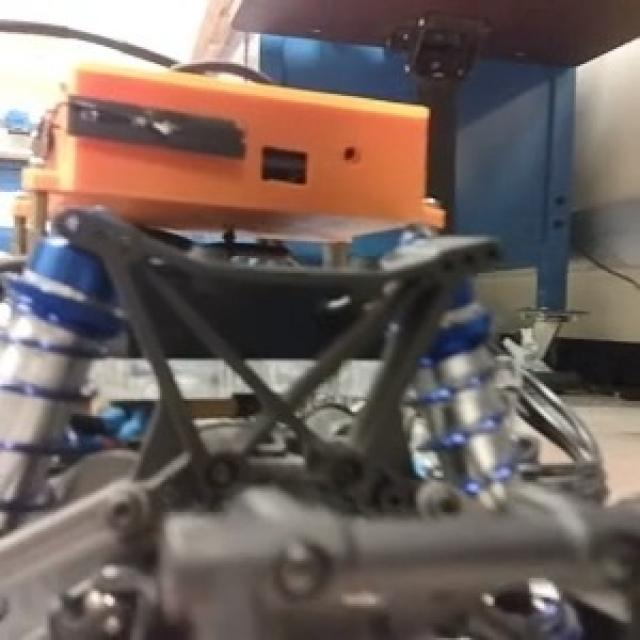obstacle: (4, 61, 633, 639)
